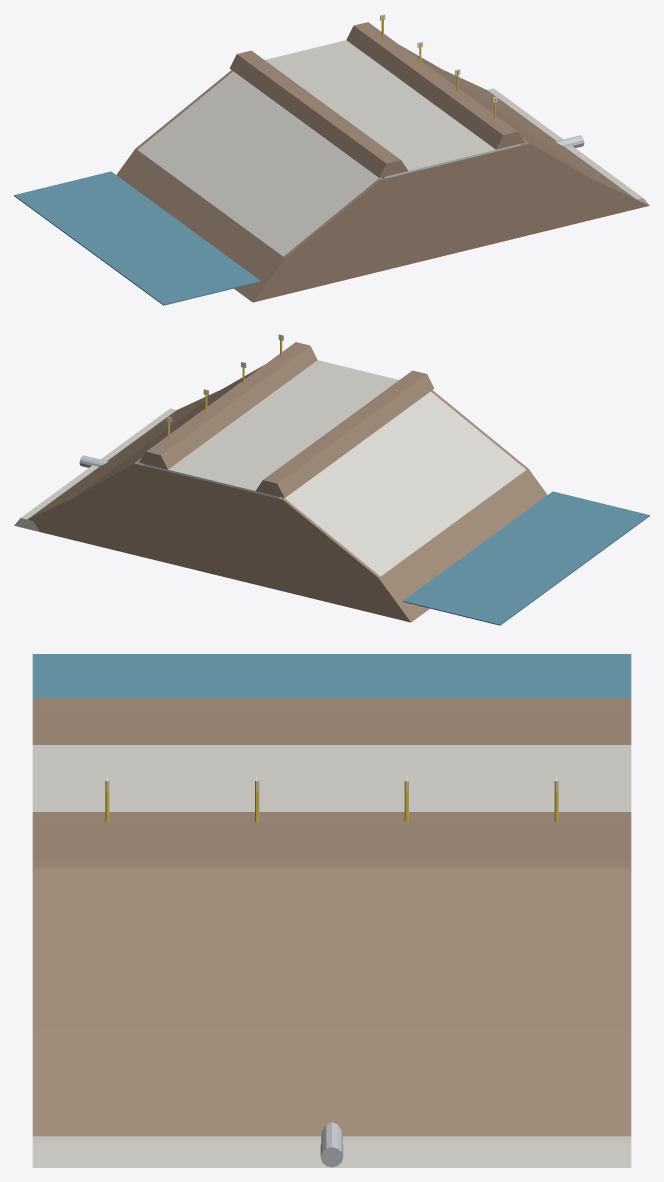
Rendered from ore-processing-and-haulage-plant-tailings-berm-module-65fb0c2c.glb.
The picture shows the model from 3 angles, top to bottom: view 1: azimuth 30°, elevation 25°; view 2: azimuth 150°, elevation 25°; view 3: azimuth 270°, elevation 25°; orthographic projection. The views are drawn at different scales.
Visible parts, largest first — view 1: tailings-berm-module; view 2: tailings-berm-module; view 3: tailings-berm-module.
Boxes of the visible parts, x1=… form: tailings-berm-module: x1=14, y1=14, x2=649, y2=305; tailings-berm-module: x1=14, y1=334, x2=649, y2=625; tailings-berm-module: x1=32, y1=654, x2=631, y2=1167.
Bounding box in the file's own units: 30.4 × 7.55 × 16.
